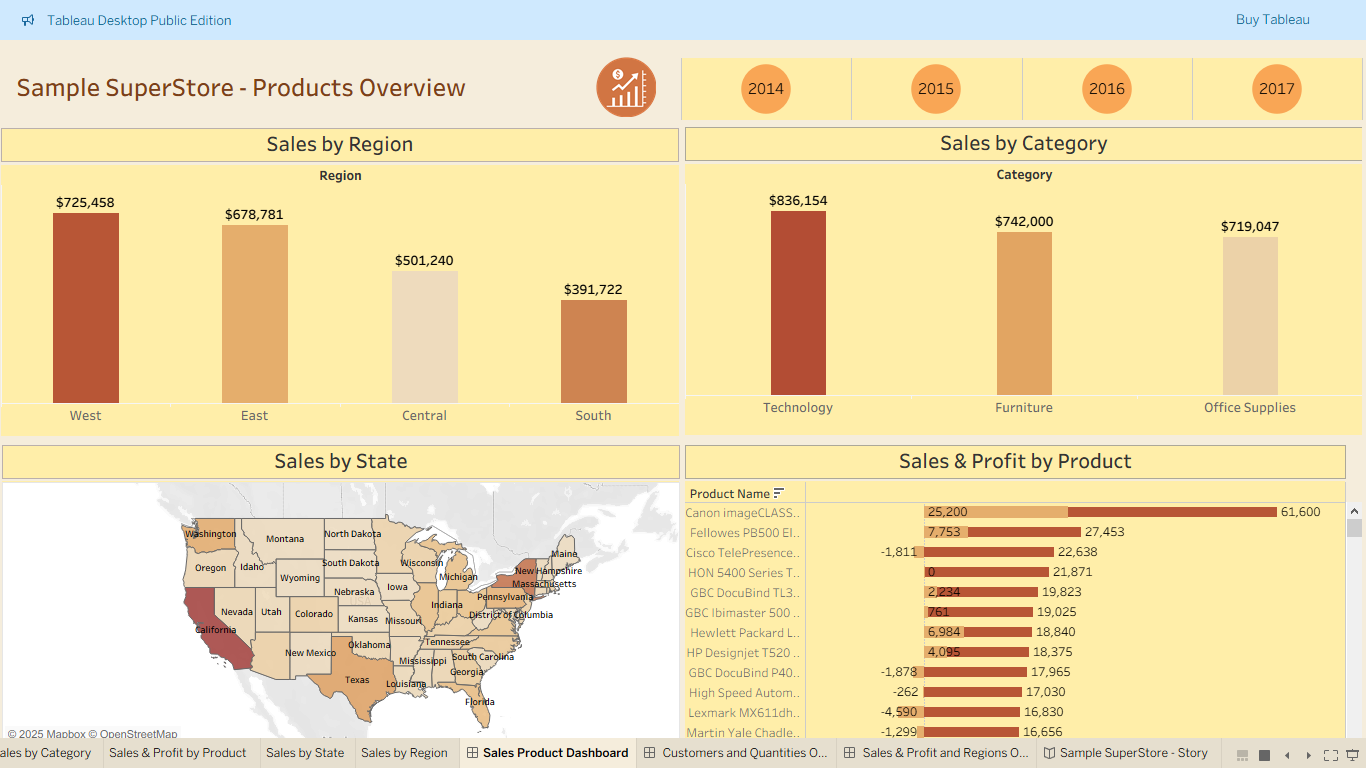

The page's visual inventory and layout, read from the dashboard file:
{"tool":"tableau","page":{"name":"Sales Product Dashboard","canvas":[1000,1000],"units":"permille","ordinal":2},"visuals":[{"type":"title","box":[10.3,18.1,401.2,94.4]},{"type":"dashboard-object","box":[430.8,24.1,55.4,86.4]},{"type":"worksheet","title":"Years Card","mark":"Shape","cols":["Order Date","Order Date"],"box":[498.7,26.1,499.6,88.4]},{"type":"worksheet","title":"Sales by Category","mark":"Automatic","rows":["Sales"],"cols":["Category"],"box":[501.3,124.5,496.1,441.8]},{"type":"worksheet","title":"Sales by Region","mark":"Automatic","rows":["Sales"],"cols":["Region"],"box":[0.9,126.5,496.1,441.8]}]}

Visuals, with their boxes on the dashboard's canvas, which has no fixed pixel size, in thousandths of its width and height (x1, y1, x2, y2). These are canvas units, not pixel positions in the 1366x768 screenshot, which may show the page scaled, cropped or inside an application window:
title: [x1=10, y1=18, x2=412, y2=112]
dashboard-object: [x1=431, y1=24, x2=486, y2=110]
"Years Card" worksheet (Shape marks): [x1=499, y1=26, x2=998, y2=114]
"Sales by Category" worksheet: [x1=501, y1=124, x2=997, y2=566]
"Sales by Region" worksheet: [x1=1, y1=126, x2=497, y2=568]
